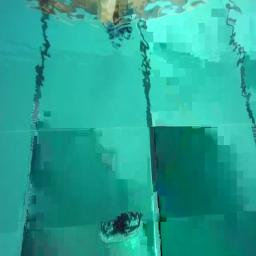Full: (100, 212, 142, 238)
